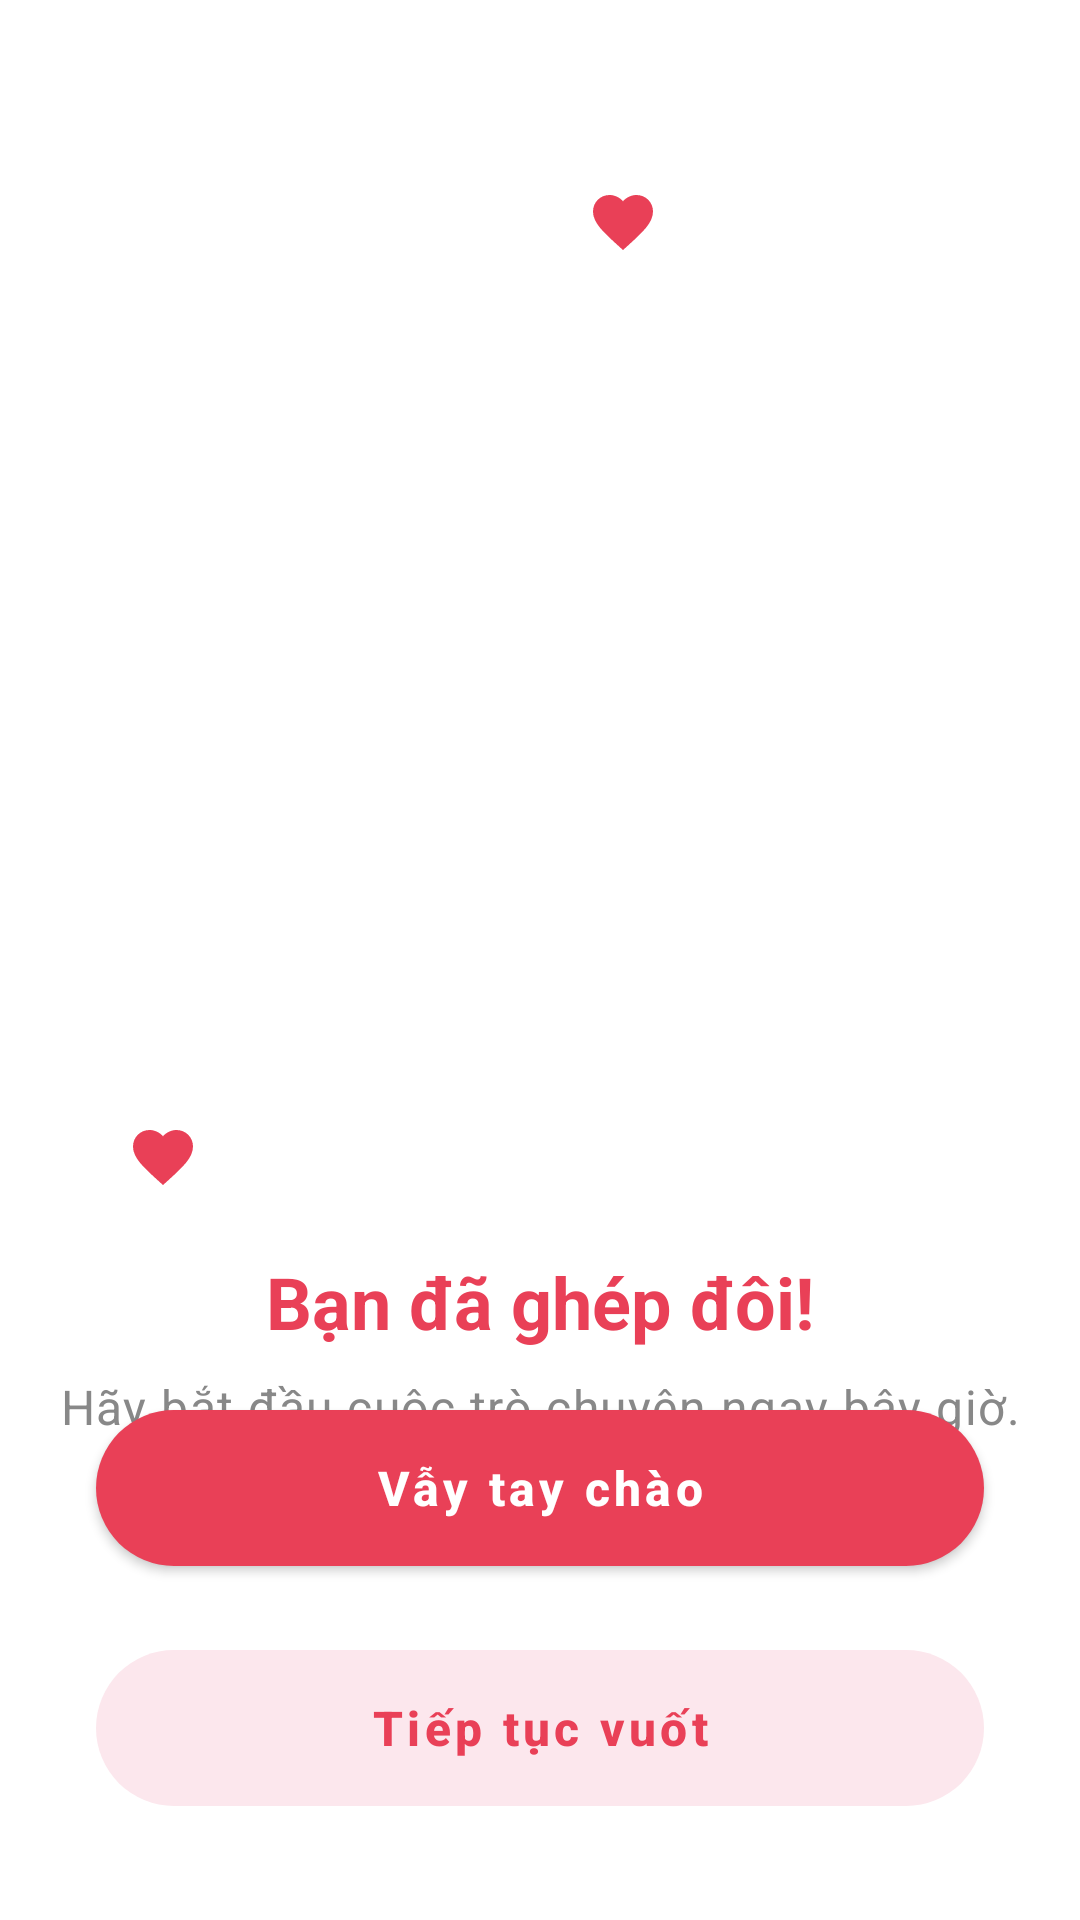

Icon click points for this 1080*1920 phone screenshot, format point (x, y):
heart: point (623, 222), point (163, 1157)
